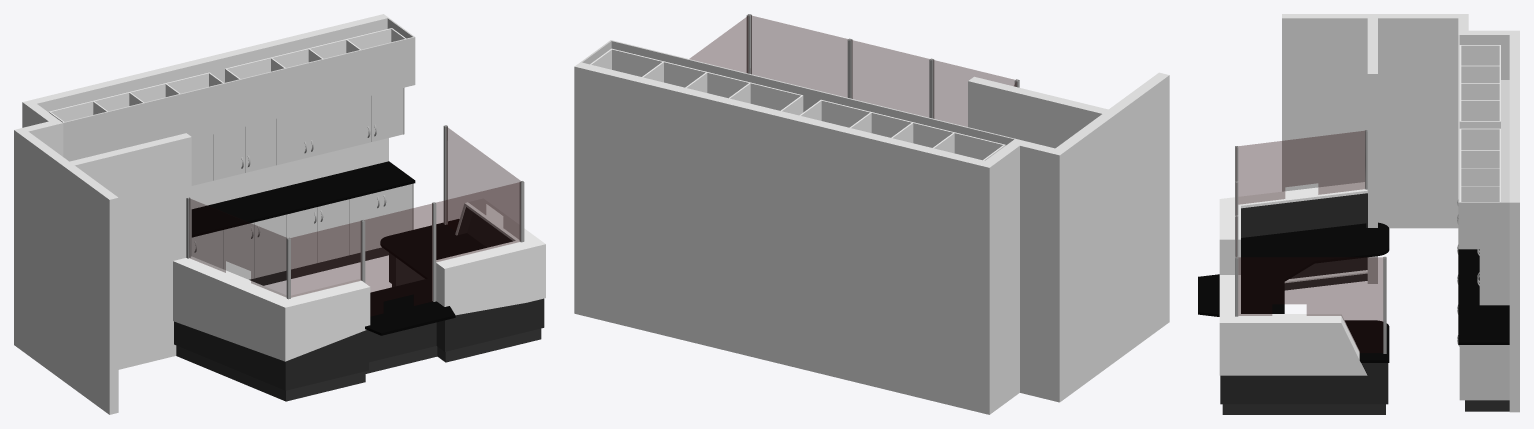
File: jhh.glb
The picture shows the model from 3 angles, left to right: view 1: azimuth 30°, elevation 25°; view 2: azimuth 150°, elevation 25°; view 3: azimuth 270°, elevation 25°; orthographic projection. The views are drawn at different scales.
Visible parts, largest first — view 1: Walls, ClearGlass, BT_Stone, FrontParts, Black, Benchtop, Kick, Carcass, Alum, BC_05_R, BC_04_R, BC_05_L (+11 smaller); view 2: Walls, ClearGlass, Carcass, FrontParts, Alum; view 3: Walls, ClearGlass, Benchtop, BT_Stone, Black, FrontParts, Carcass, Kick, Alum.
Part boxes in pixels (x1,y1,x2,y2): Walls: [14, 14, 388, 414]; ClearGlass: [189, 127, 520, 316]; BT_Stone: [173, 198, 545, 361]; FrontParts: [63, 18, 415, 229]; Black: [174, 207, 544, 390]; Benchtop: [191, 161, 486, 335]; Kick: [176, 247, 541, 401]; Carcass: [49, 28, 405, 122]; Alum: [186, 125, 524, 301]; BC_05_R: [317, 199, 349, 262]; BC_04_R: [254, 214, 286, 278]; BC_05_L: [286, 207, 317, 269]; Walls: [574, 62, 1169, 414]; ClearGlass: [690, 15, 1016, 126]; Carcass: [590, 48, 1005, 160]; FrontParts: [581, 40, 1014, 145]; Alum: [746, 14, 1019, 118]; Walls: [1282, 14, 1519, 412]; ClearGlass: [1236, 131, 1383, 352]; Benchtop: [1198, 222, 1509, 362]; BT_Stone: [1219, 182, 1367, 375]; Black: [1220, 193, 1388, 404]; FrontParts: [1458, 35, 1509, 400]; Carcass: [1284, 45, 1500, 282]; Kick: [1222, 273, 1509, 414]; Alum: [1235, 129, 1386, 353].
Size of the model in its own units: 5.31 by 2.7 by 3.75.
